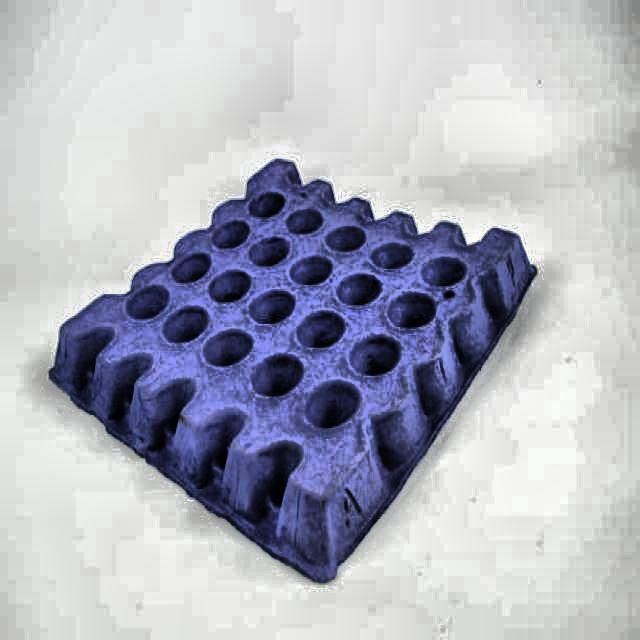cardboard: (47, 159, 539, 586)
